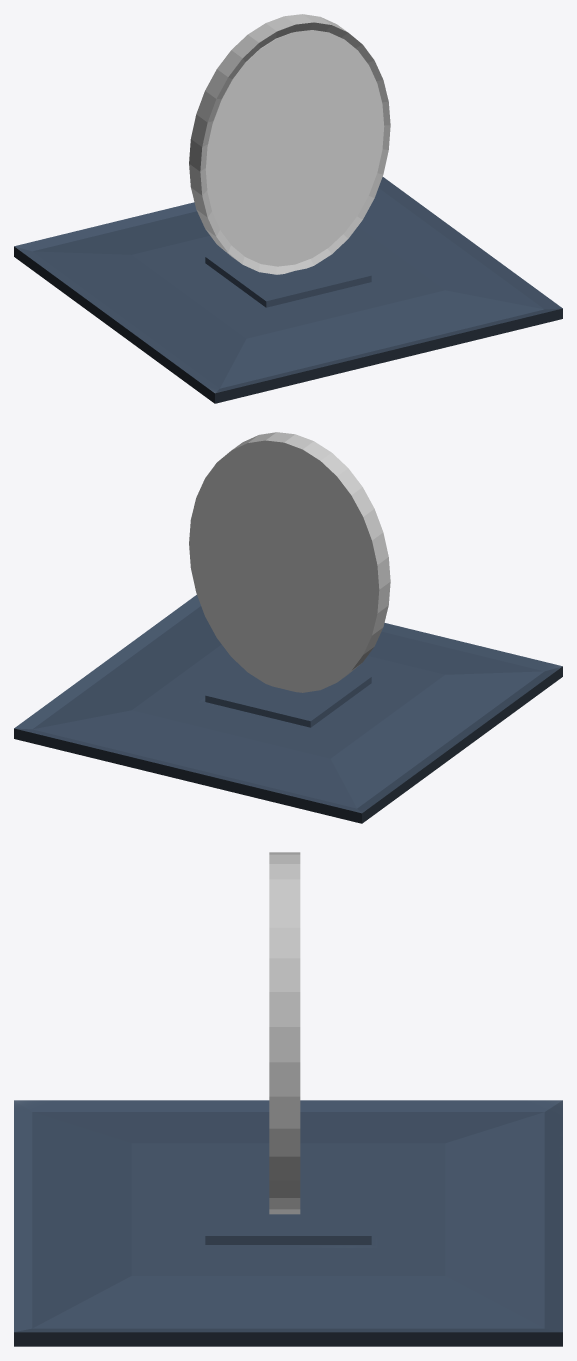
Rendered from EndingPortal.fbx.
3 views of the same model, one above another, from view 1: azimuth 30°, elevation 25°; view 2: azimuth 150°, elevation 25°; view 3: azimuth 270°, elevation 25° (orthographic). The views are drawn at different scales.
Visible parts, largest first — view 1: Base, Portal, OuterPortal; view 2: Base, OuterPortal; view 3: Base, OuterPortal.
Boxes of the visible parts, x1,y1,x2,y2 form: Base: (14, 177, 562, 403); Portal: (205, 30, 384, 266); OuterPortal: (189, 14, 390, 274); Base: (14, 595, 562, 823); OuterPortal: (189, 432, 390, 692); Base: (14, 1100, 562, 1346); OuterPortal: (269, 852, 300, 1214).
Size of the model in its own units: 988 by 728 by 988.
